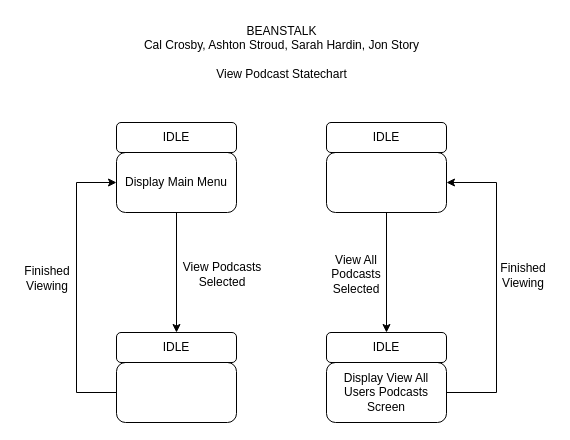
Some shapes in this 570 by 440 pixel diagram are drawn without their labels. The box of each missing label's shape, as (x1, y1, x2, y2) in pixels:
Display Main Menu *admin features*: (326, 152, 446, 212)
Display View Podcasts Screen: (116, 362, 236, 422)
